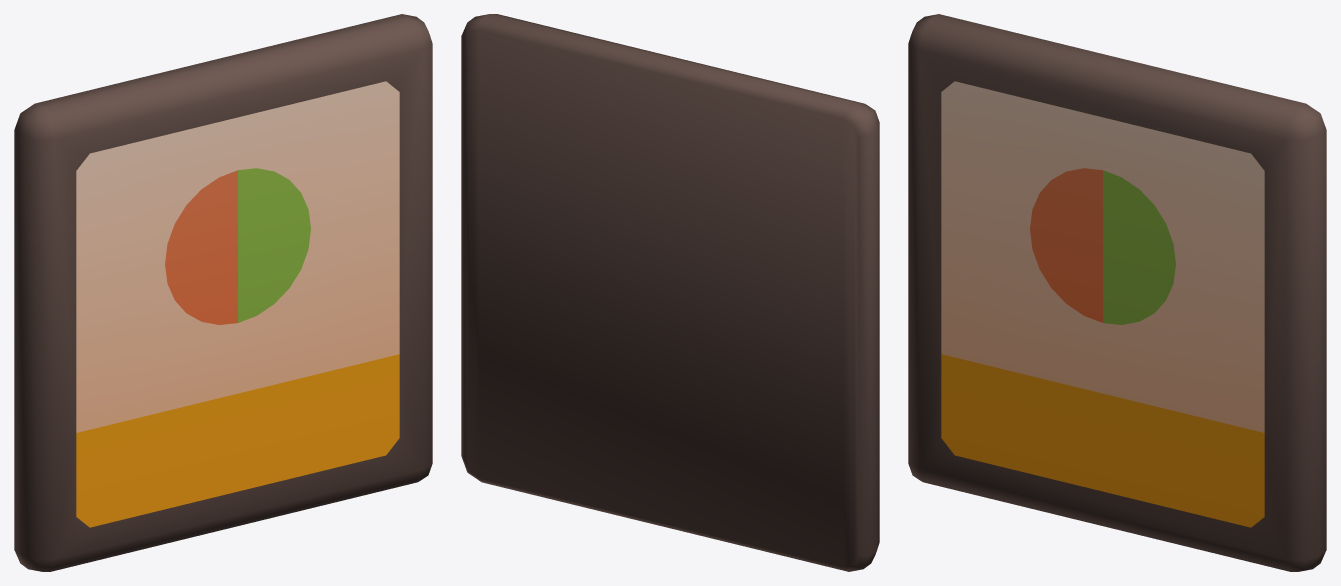
The model's file is Picture_15.glb.
The picture shows the model from 3 angles, left to right: view 1: azimuth 30°, elevation 25°; view 2: azimuth 150°, elevation 25°; view 3: azimuth 330°, elevation 25°; orthographic projection.
Visible parts, largest first — view 1: Picture_15; view 2: Picture_15; view 3: Picture_15.
Part boxes in pixels (<box>): Picture_15: <box>14,14,432,571</box>; Picture_15: <box>461,14,879,571</box>; Picture_15: <box>908,14,1326,571</box>.
Size of the model in its own units: 0.6 by 0.65 by 0.06.
1 material, 1 textured.
